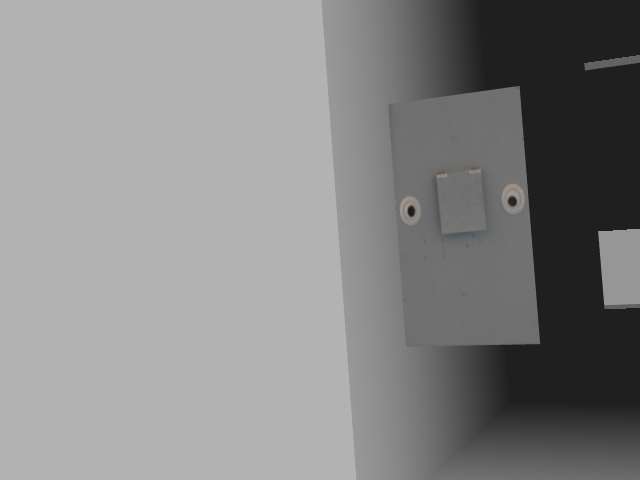facade: (399, 165, 526, 237)
